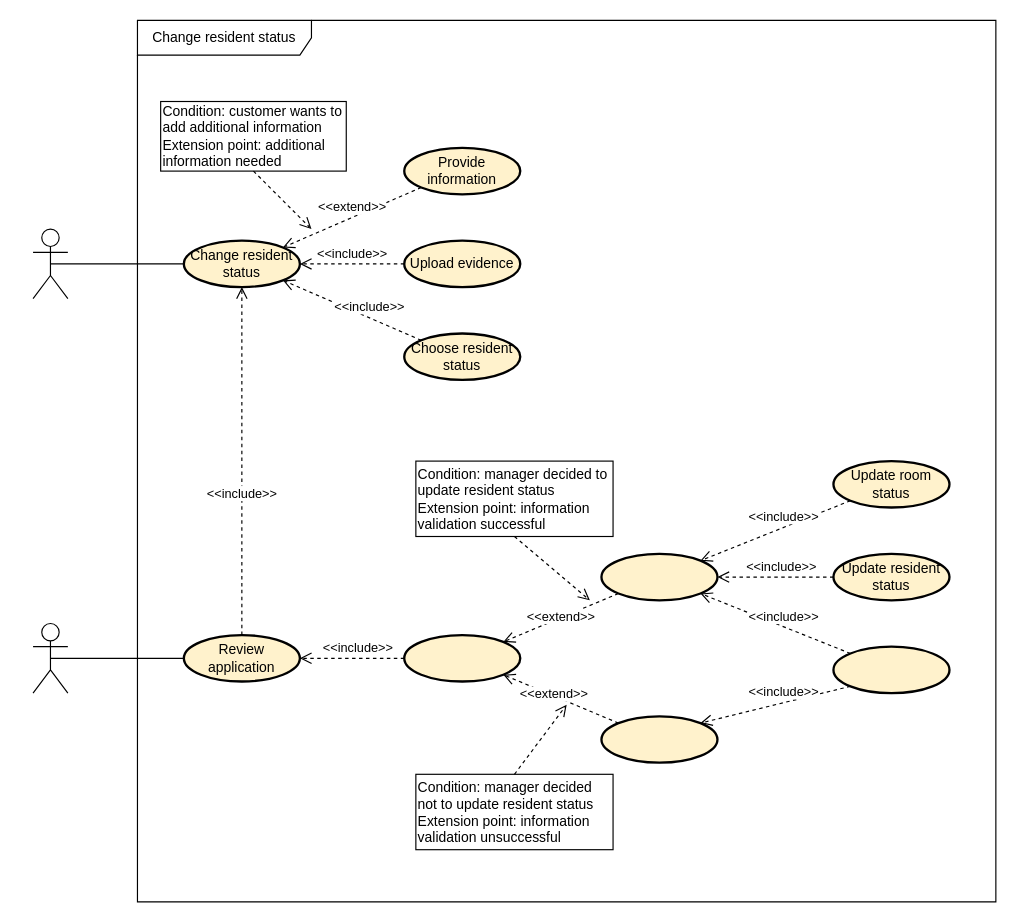
This 1016x922 diagram has some shape labels left out. Each missing label, with the centre of its shape:
Approve resident status update: point (659, 576)
Customer: point (50, 263)
Manager: point (50, 657)
Notify customer: point (891, 669)
Refuse resident status update: point (659, 739)
Validate information: point (462, 657)
